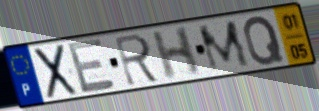E: (65, 36, 118, 97)
H: (150, 24, 202, 82)
M: (196, 18, 253, 75)
Q: (241, 13, 287, 68)
R: (112, 32, 163, 89)
X: (32, 42, 80, 102)
